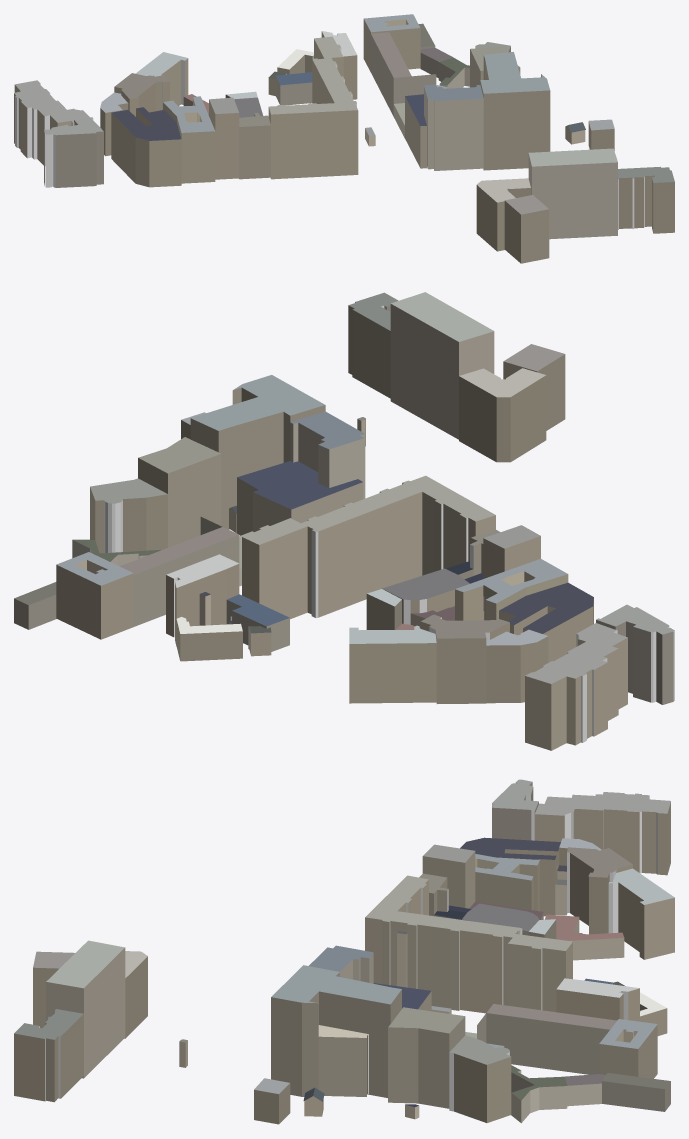
3 renders of one model, top to bottom at view 1: azimuth 30°, elevation 25°; view 2: azimuth 150°, elevation 25°; view 3: azimuth 270°, elevation 25°, orthographic. The views are drawn at different scales.
Parts seen in each view (by area): view 1: tuile; view 2: tuile; view 3: tuile.
Boxes of the visible parts, x1,y1,x2,y2 form: tuile: (14, 14, 674, 263); tuile: (14, 292, 674, 750); tuile: (14, 779, 674, 1124).
Bounding box in the file's own units: 259 × 42.37 × 257.
